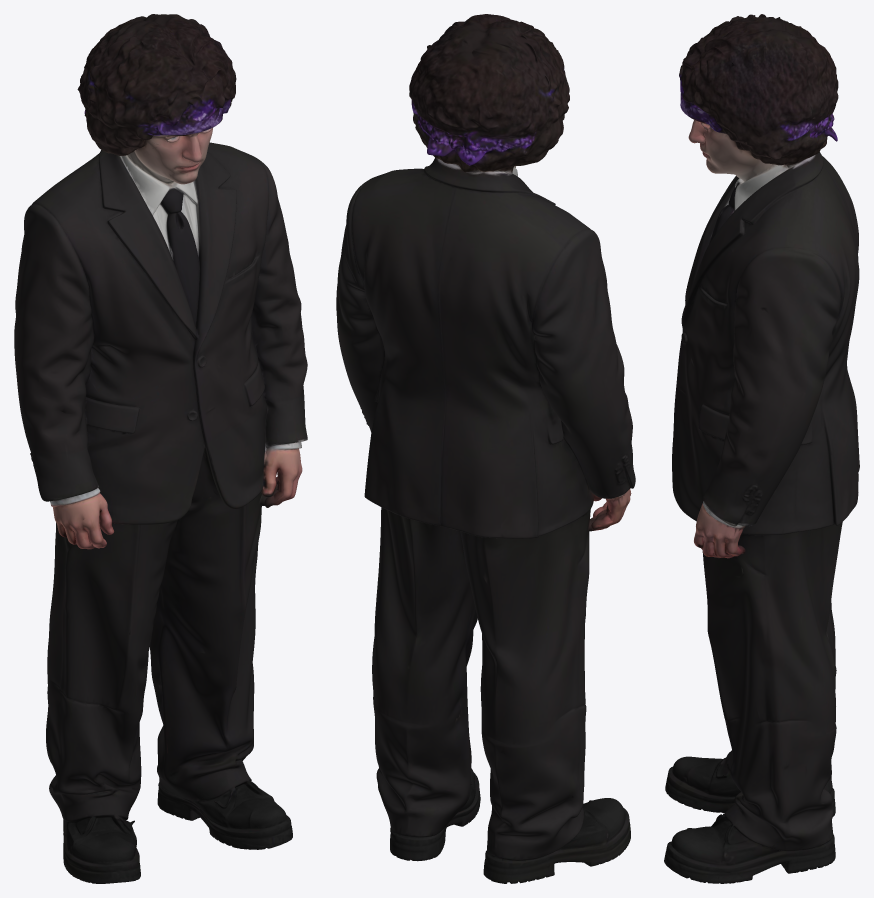
File: tengiz.glb
3 views of the same model, side by side, from view 1: azimuth 30°, elevation 25°; view 2: azimuth 150°, elevation 25°; view 3: azimuth 270°, elevation 25° (orthographic).
Visible parts, largest first — view 1: material; view 2: material; view 3: material.
Boxes of the visible parts, x1,y1,x2,y2 form: material: (14,14,307,883); material: (336,14,635,883); material: (664,14,859,883).
Bounding box in the file's own units: 0.4064 × 1.15 × 0.2519.
Materials: 1 (1 with a texture image).
